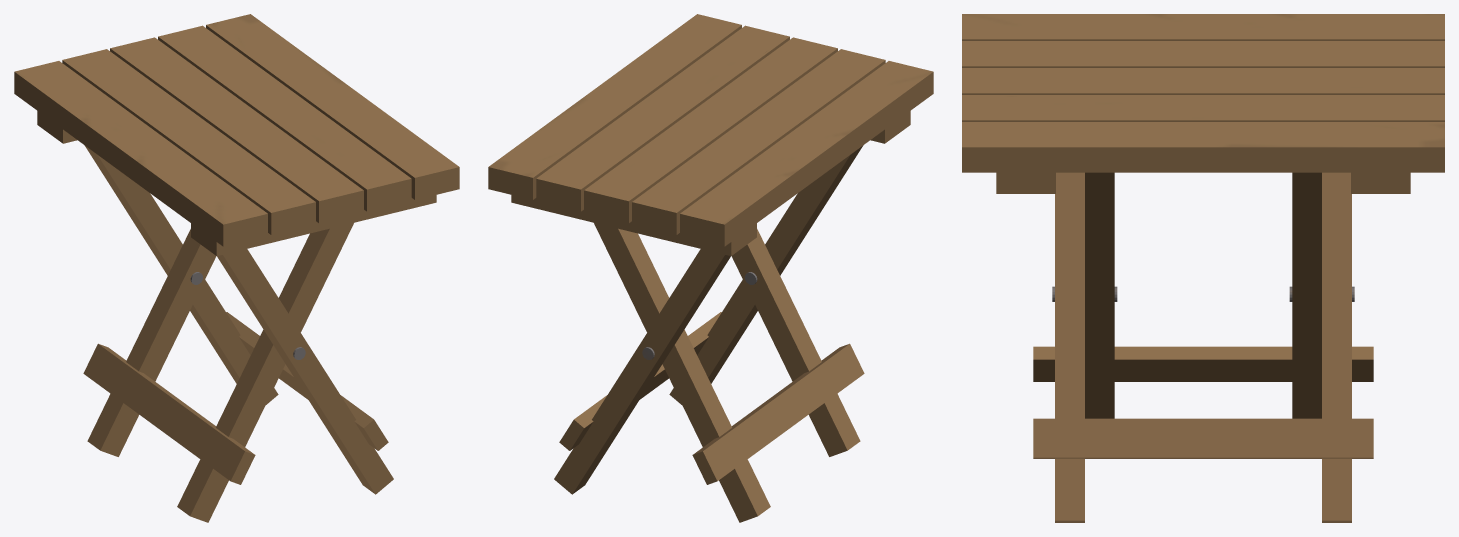
Rendered from FoldingTable.fbx.
3 renders of one model, left to right at view 1: azimuth 30°, elevation 25°; view 2: azimuth 150°, elevation 25°; view 3: azimuth 270°, elevation 25°, orthographic. The views are drawn at different scales.
Parts seen in each view (by area): view 1: Table; view 2: Table; view 3: Table.
Part boxes in pixels (x1,y1,x2,y2): Table: [14, 14, 459, 522]; Table: [488, 14, 933, 522]; Table: [962, 14, 1444, 522].
Size of the model in its own units: 113 by 158 by 173.
